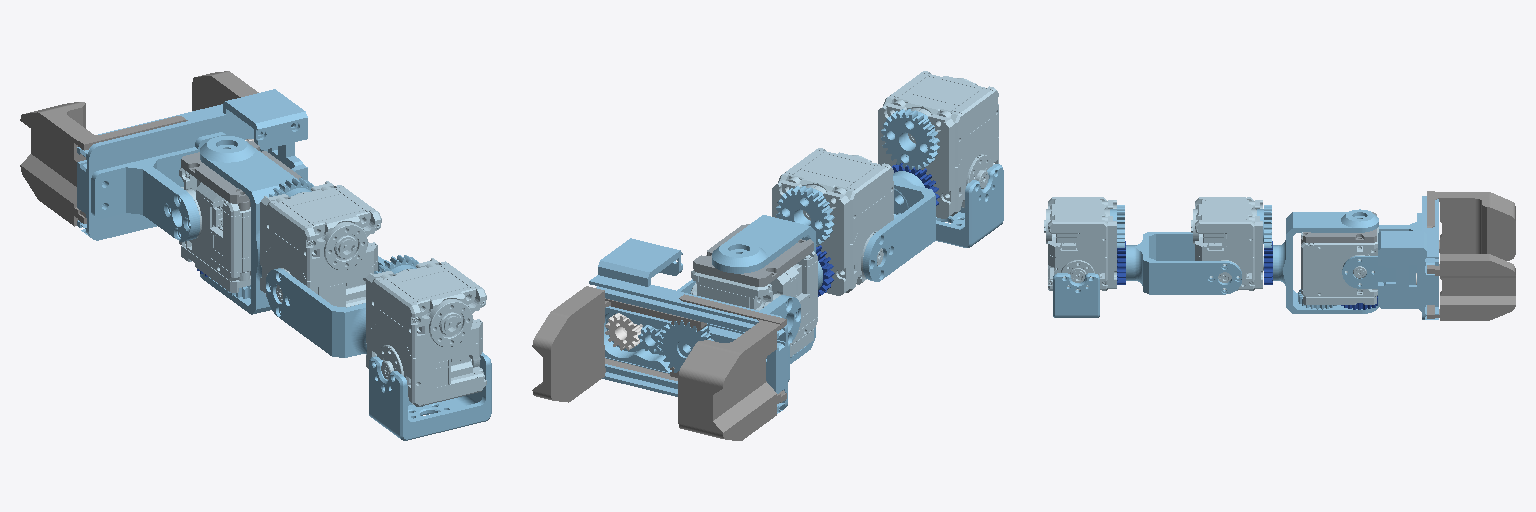
--- Facts derived from the render (not from the file) ---
3 views of the same robot in one strip: view 1: azimuth 30°, elevation 25°; view 2: azimuth 150°, elevation 25°; view 3: azimuth 270°, elevation 25° (orthographic).
Robot: right_arm_gripper — 19 links, 18 joints (10 revolute, 2 prismatic, 6 fixed); root link sho_pitch_link; default pose: every joint at zero.
Links seen in each view (by area): view 1: 2xl430_gears, 2xl430_gears_2, right_rail_guide, rail_2, gripper_connector, sho_pitch_link, 2xl430_gears_3, elb_yaw_link, sho_yaw_link, rail, wrist_bearing_plate; view 2: right_rail_guide, rail_2, 2xl430_gears, 2xl430_gears_2, rail, sho_yaw_link, 2xl430_gears_3, elb_yaw_link, sho_pitch_link, spur_1m_24t_drive, wrist_bearing_plate, spur_1m_24t_drive_2 (+2 smaller); view 3: 2xl430_gears, sho_yaw_link, 2xl430_gears_2, rail, rail_2, right_rail_guide, 2xl430_gears_3, elb_yaw_link, sho_pitch_link, gripper_connector, wrist_bearing_plate.
Link boxes in pixels (bbox=[...]): 2xl430_gears: bbox=[366, 258, 486, 406]; 2xl430_gears_2: bbox=[260, 181, 381, 307]; right_rail_guide: bbox=[77, 89, 307, 240]; rail_2: bbox=[20, 102, 187, 226]; gripper_connector: bbox=[91, 132, 227, 241]; sho_pitch_link: bbox=[369, 352, 491, 440]; 2xl430_gears_3: bbox=[179, 168, 250, 292]; elb_yaw_link: bbox=[200, 136, 297, 314]; sho_yaw_link: bbox=[266, 256, 384, 357]; rail: bbox=[192, 71, 258, 110]; wrist_bearing_plate: bbox=[181, 141, 301, 210]; right_rail_guide: bbox=[589, 238, 787, 413]; rail_2: bbox=[670, 294, 786, 440]; 2xl430_gears: bbox=[878, 71, 998, 218]; 2xl430_gears_2: bbox=[772, 148, 893, 295]; rail: bbox=[532, 286, 706, 402]; sho_yaw_link: bbox=[863, 171, 935, 281]; 2xl430_gears_3: bbox=[690, 251, 817, 356]; elb_yaw_link: bbox=[712, 215, 822, 363]; sho_pitch_link: bbox=[936, 164, 1003, 247]; spur_1m_24t_drive: bbox=[881, 109, 939, 169]; wrist_bearing_plate: bbox=[693, 224, 813, 286]; spur_1m_24t_drive_2: bbox=[776, 186, 834, 244]; 2xl430_gears: bbox=[1044, 197, 1116, 290]; sho_yaw_link: bbox=[1126, 232, 1241, 294]; 2xl430_gears_2: bbox=[1191, 197, 1263, 290]; rail: bbox=[1427, 254, 1515, 320]; rail_2: bbox=[1427, 191, 1515, 260]; right_rail_guide: bbox=[1378, 196, 1438, 319]; 2xl430_gears_3: bbox=[1301, 227, 1378, 304]; elb_yaw_link: bbox=[1273, 209, 1378, 313]; sho_pitch_link: bbox=[1053, 273, 1099, 317]; gripper_connector: bbox=[1342, 213, 1421, 288]; wrist_bearing_plate: bbox=[1301, 212, 1376, 243].
Bounding box of the posed robot: 0.0917 × 0.281 × 0.0652 m (x, y, z).
Meshes: 19 distinct files referenced, 18 mesh visuals loaded (18 binary STL); not drawn: 1 (reference not matched to a file when rendering).

URDF robot description (right_arm_gripper):
<?xml version="1.0" ?><robot name="right_arm_gripper">  
  <link name="sho_pitch_link">    
    <visual>      
      <origin xyz="0 0 0" rpy="0 -0 0"/>      
      <geometry>        
        <mesh filename="package:///meshes/right_sho_pitch_link_visual.stl"/>        
      </geometry>      
      <material name="sho_pitch_link_material">        
        <color rgba="0.61568627450980395466 0.81176470588235294379 0.92941176470588238168 1.0"/>        
      </material>      
    </visual>    
    <collision>      
      <origin xyz="0 0 0" rpy="0 -0 0"/>      
      <geometry>        
        <mesh filename="package:///meshes/right_sho_pitch_link_collision.stl"/>        
      </geometry>      
    </collision>    
    <inertial>      
      <origin xyz="5.8254247037992103401e-11 -5.1264642561121243568e-05 0.0082440788127094936227" rpy="0 0 0"/>      
      <mass value="0.0086000000000000000056"/>      
      <inertia ixx="1.2272887040545796108e-06" ixy="-2.1429944214503845664e-14" ixz="-8.5847198242763822559e-15" iyy="2.9107306060364624323e-06" iyz="7.4623841398183017835e-09" izz="3.0803135950773491928e-06"/>      
    </inertial>    
  </link>  

  <link name="2xl430_gears">    
    <visual>      
      <origin xyz="0 0 0" rpy="0 -0 0"/>      
      <geometry>        
        <mesh filename="package:///meshes/right_2xl430_gears_visual.stl"/>        
      </geometry>      
      <material name="2xl430_gears_material">        
        <color rgba="0.7560598568794409946 0.8580469596269301169 0.91320266199377464478 1.0"/>        
      </material>      
    </visual>    
    <collision>      
      <origin xyz="0 0 0" rpy="0 -0 0"/>      
      <geometry>        
        <mesh filename="package:///meshes/right_2xl430_gears_collision.stl"/>        
      </geometry>      
    </collision>    
    <inertial>      
      <origin xyz="-0.011579403981033875928 -0.0024225766141437866767 -0.018551095523802622889" rpy="0 0 0"/>      
      <mass value="0.11800003674524910113"/>      
      <inertia ixx="2.7482298083236928881e-05" ixy="9.2729623433052696907e-07" ixz="-2.2634512004386817192e-08" iyy="3.2770742486672553985e-05" iyz="-6.5708346020062489801e-07" izz="3.576795754405571586e-05"/>      
    </inertial>    
  </link>  

  <link name="spur_1m_24t_drive">    
    <visual>      
      <origin xyz="0 0 0" rpy="0 -0 0"/>      
      <geometry>        
        <mesh filename="package:///meshes/right_spur_1m_24t_drive_visual.stl"/>        
      </geometry>      
      <material name="spur_1m_24t_drive_material">        
        <color rgba="0.61568627450980406568 0.81176470588235294379 0.92941176470588238168 1.0"/>        
      </material>      
    </visual>    
    <collision>      
      <origin xyz="0 0 0" rpy="0 -0 0"/>      
      <geometry>        
        <mesh filename="package:///meshes/right_spur_1m_24t_drive_collision.stl"/>        
      </geometry>      
    </collision>    
    <inertial>      
      <origin xyz="-7.7516116741234976791e-15 -1.2124421062364720718e-16 0.0047949116178401416863" rpy="0 0 0"/>      
      <mass value="0.0032000000000000001533"/>      
      <inertia ixx="1.4019331346159892996e-07" ixy="1.6002409922818087303e-15" ixz="1.5512658169588909582e-36" iyy="1.4019331260388783538e-07" iyz="6.832589472426229927e-37" izz="2.3838919844264060647e-07"/>      
    </inertial>    
  </link>  

  <joint name="right_sho_yaw_drive" type="revolute">    
    <origin xyz="-0.02400000071613753172 -0.019000000152449930679 -0.01900000015244478202" rpy="1.5707963267947220309 -4.4297106944168913575e-14 6.810646137204639124e-14"/>    
    <parent link="2xl430_gears"/>    
    <child link="spur_1m_24t_drive"/>    
    <axis xyz="0 0 1"/>    
    <limit effort="1" velocity="20" lower="-2.6179938779914944114" upper="2.6179938779914944114"/>    
    <joint_properties friction="0.0"/>    
  </joint>  

  <link name="spur_1m_24t_driven">    
    <visual>      
      <origin xyz="0 0 0" rpy="0 -0 0"/>      
      <geometry>        
        <mesh filename="package:///meshes/right_spur_1m_24t_driven_visual.stl"/>        
      </geometry>      
      <material name="spur_1m_24t_driven_material">        
        <color rgba="0.23137254901960788156 0.38039215686274502337 0.7058823529411765163 1.0"/>        
      </material>      
    </visual>    
    <collision>      
      <origin xyz="0 0 0" rpy="0 -0 0"/>      
      <geometry>        
        <mesh filename="package:///meshes/right_spur_1m_24t_driven_collision.stl"/>        
      </geometry>      
    </collision>    
    <inertial>      
      <origin xyz="1.9637778540991893625e-18 -5.8049057615352288969e-15 -0.00097054817521927832808" rpy="0 0 0"/>      
      <mass value="0.0026999999999999997093"/>      
      <inertia ixx="1.2036234079571065709e-07" ixy="3.0459387528081630637e-37" ixz="-3.0332648475783403611e-37" iyy="1.203623407957104718e-07" iyz="-2.0908704881522101161e-36" izz="2.2847261745924535316e-07"/>      
    </inertial>    
  </link>  

  <link name="sho_yaw_link">    
    <visual>      
      <origin xyz="0 0 0" rpy="0 -0 0"/>      
      <geometry>        
        <mesh filename="package:///meshes/right_sho_yaw_link_visual.stl"/>        
      </geometry>      
      <material name="sho_yaw_link_material">        
        <color rgba="0.61568627450980395466 0.81176470588235294379 0.92941176470588238168 1.0"/>        
      </material>      
    </visual>    
    <collision>      
      <origin xyz="0 0 0" rpy="0 -0 0"/>      
      <geometry>        
        <mesh filename="package:///meshes/right_sho_yaw_link_collision.stl"/>        
      </geometry>      
    </collision>    
    <inertial>      
      <origin xyz="-1.2817564279970693173e-18 -4.2395441168324980763e-19 -0.024303257848520172513" rpy="0 0 0"/>      
      <mass value="0.014500000000000016348"/>      
      <inertia ixx="9.0846670053041382782e-06" ixy="3.6224092806404002001e-13" ixz="-7.3094158734906374592e-36" iyy="5.6910950712097533498e-06" iyz="-4.7266869952784907348e-35" izz="4.481960984554899287e-06"/>      
    </inertial>    
  </link>  

  <link name="2xl430_gears_2">    
    <visual>      
      <origin xyz="0 0 0" rpy="0 -0 0"/>      
      <geometry>        
        <mesh filename="package:///meshes/right_2xl430_gears_2_visual.stl"/>        
      </geometry>      
      <material name="2xl430_gears_2_material">        
        <color rgba="0.7560598568794409946 0.8580469596269301169 0.91320266199377464478 1.0"/>        
      </material>      
    </visual>    
    <collision>      
      <origin xyz="0 0 0" rpy="0 -0 0"/>      
      <geometry>        
        <mesh filename="package:///meshes/right_2xl430_gears_2_collision.stl"/>        
      </geometry>      
    </collision>    
    <inertial>      
      <origin xyz="-0.011579403981039848581 -0.0024225766141426031616 -0.018551095523806133969" rpy="0 0 0"/>      
      <mass value="0.11800003674524910113"/>      
      <inertia ixx="2.7482298083239717313e-05" ixy="9.2729623432914789355e-07" ixz="-2.2634512003324065467e-08" iyy="3.2770742486673665292e-05" iyz="-6.570834602014093564e-07" izz="3.5767957544057796173e-05"/>      
    </inertial>    
  </link>  

  <link name="spur_1m_24t_drive_2">    
    <visual>      
      <origin xyz="0 0 0" rpy="0 -0 0"/>      
      <geometry>        
        <mesh filename="package:///meshes/right_spur_1m_24t_drive_2_visual.stl"/>        
      </geometry>      
      <material name="spur_1m_24t_drive_2_material">        
        <color rgba="0.61568627450980406568 0.81176470588235294379 0.92941176470588238168 1.0"/>        
      </material>      
    </visual>    
    <collision>      
      <origin xyz="0 0 0" rpy="0 -0 0"/>      
      <geometry>        
        <mesh filename="package:///meshes/right_spur_1m_24t_drive_2_collision.stl"/>        
      </geometry>      
    </collision>    
    <inertial>      
      <origin xyz="-7.7516116741234961014e-15 -1.2124421064949660133e-16 0.0047949116178401382168" rpy="0 0 0"/>      
      <mass value="0.0032000000000000001533"/>      
      <inertia ixx="1.4019331346159887702e-07" ixy="1.6002409935589451508e-15" ixz="3.4217861399280605448e-38" iyy="1.4019331260388780891e-07" iyz="-5.6275823426893574842e-37" izz="2.3838919844264060647e-07"/>      
    </inertial>    
  </link>  

  <joint name="right_elbow_yaw_drive" type="revolute">    
    <origin xyz="-0.02400000071614593472 -0.019000000152452525826 -0.019000000152448241059" rpy="1.5707963267948983344 1.6898711261348466559e-13 -7.2725329301663980295e-14"/>    
    <parent link="2xl430_gears_2"/>    
    <child link="spur_1m_24t_drive_2"/>    
    <axis xyz="0 0 1"/>    
    <limit effort="1" velocity="20" lower="-2.6179938779914944114" upper="2.6179938779914944114"/>    
    <joint_properties friction="0.0"/>    
  </joint>  

  <link name="spur_1m_24t_driven_2">    
    <visual>      
      <origin xyz="0 0 0" rpy="0 -0 0"/>      
      <geometry>        
        <mesh filename="package:///meshes/right_spur_1m_24t_driven_2_visual.stl"/>        
      </geometry>      
      <material name="spur_1m_24t_driven_2_material">        
        <color rgba="0.23137254901960788156 0.38039215686274502337 0.7058823529411765163 1.0"/>        
      </material>      
    </visual>    
    <collision>      
      <origin xyz="0 0 0" rpy="0 -0 0"/>      
      <geometry>        
        <mesh filename="package:///meshes/right_spur_1m_24t_driven_2_collision.stl"/>        
      </geometry>      
    </collision>    
    <inertial>      
      <origin xyz="1.9637778540993164739e-18 -5.8049057615352265303e-15 -0.00097054817521928168911" rpy="0 0 0"/>      
      <mass value="0.0026999999999999997093"/>      
      <inertia ixx="1.2036234079571071003e-07" ixy="2.8999630800741879349e-37" ixz="1.3128544367748221718e-36" iyy="1.203623407957104718e-07" iyz="-2.5130632054411367083e-36" izz="2.2847261745924545904e-07"/>      
    </inertial>    
  </link>  

  <link name="elb_yaw_link">    
    <visual>      
      <origin xyz="0 0 0" rpy="0 -0 0"/>      
      <geometry>        
        <mesh filename="package:///meshes/right_elb_yaw_link_visual.stl"/>        
      </geometry>      
      <material name="elb_yaw_link_material">        
        <color rgba="0.61568627450980395466 0.81176470588235294379 0.92941176470588227065 1.0"/>        
      </material>      
    </visual>    
    <collision>      
      <origin xyz="0 0 0" rpy="0 -0 0"/>      
      <geometry>        
        <mesh filename="package:///meshes/right_elb_yaw_link_collision.stl"/>        
      </geometry>      
    </collision>    
    <inertial>      
      <origin xyz="5.3127688027391931278e-08 0.0019833638641961644222 -0.023416643551549931601" rpy="0 0 0"/>      
      <mass value="0.017500000000000001665"/>      
      <inertia ixx="1.4134344903109194693e-05" ixy="1.6945783921965038345e-12" ixz="-1.128639872187510241e-11" iyy="6.6435900776211323463e-06" iyz="1.0545227077253055462e-06" izz="8.9925290757998976773e-06"/>      
    </inertial>    
  </link>  

  <link name="spur_1m_24t_driven_3">    
    <visual>      
      <origin xyz="0 0 0" rpy="0 -0 0"/>      
      <geometry>        
        <mesh filename="package:///meshes/right_spur_1m_24t_driven_3_visual.stl"/>        
      </geometry>      
      <material name="spur_1m_24t_driven_3_material">        
        <color rgba="0.23137254901960788156 0.38039215686274502337 0.7058823529411765163 1.0"/>        
      </material>      
    </visual>    
    <collision>      
      <origin xyz="0 0 0" rpy="0 -0 0"/>      
      <geometry>        
        <mesh filename="package:///meshes/right_spur_1m_24t_driven_3_collision.stl"/>        
      </geometry>      
    </collision>    
    <inertial>      
      <origin xyz="-2.5791797761529692948e-17 -5.8049057615352265303e-15 -0.0025705481752192754774" rpy="0 0 0"/>      
      <mass value="0.0026999999999999997093"/>      
      <inertia ixx="1.2036234079571065709e-07" ixy="2.3695488040715002324e-36" ixz="-1.6418916509117533046e-37" iyy="1.203623407957104718e-07" iyz="2.6219923247193895907e-37" izz="2.2847261745924535316e-07"/>      
    </inertial>    
  </link>  

  <link name="2xl430_gears_3">    
    <visual>      
      <origin xyz="0 0 0" rpy="0 -0 0"/>      
      <geometry>        
        <mesh filename="package:///meshes/right_2xl430_gears_3_visual.stl"/>        
      </geometry>      
      <material name="2xl430_gears_3_material">        
        <color rgba="0.7560598568794409946 0.8580469596269301169 0.91320266199377464478 1.0"/>        
      </material>      
    </visual>    
    <collision>      
      <origin xyz="0 0 0" rpy="0 -0 0"/>      
      <geometry>        
        <mesh filename="package:///meshes/right_2xl430_gears_3_collision.stl"/>        
      </geometry>      
    </collision>    
    <inertial>      
      <origin xyz="0.00044890447619669408006 0.011579403622970779394 -0.024577423538312447721" rpy="0 0 0"/>      
      <mass value="0.11800003674524910113"/>      
      <inertia ixx="3.5767957544055424481e-05" ixy="2.2634512004688532975e-08" ixz="6.5708346020178840365e-07" iyy="2.748229808323665783e-05" iyz="9.2729623433030875221e-07" izz="3.2770742486673733055e-05"/>      
    </inertial>    
  </link>  

  <link name="spur_1m_24t_drive_3">    
    <visual>      
      <origin xyz="0 0 0" rpy="0 -0 0"/>      
      <geometry>        
        <mesh filename="package:///meshes/right_spur_1m_24t_drive_3_visual.stl"/>        
      </geometry>      
      <material name="spur_1m_24t_drive_3_material">        
        <color rgba="0.61568627450980406568 0.81176470588235294379 0.92941176470588238168 1.0"/>        
      </material>      
    </visual>    
    <collision>      
      <origin xyz="0 0 0" rpy="0 -0 0"/>      
      <geometry>        
        <mesh filename="package:///meshes/right_spur_1m_24t_drive_3_collision.stl"/>        
      </geometry>      
    </collision>    
    <inertial>      
      <origin xyz="-7.7516116741234961014e-15 -1.2124421064949640411e-16 0.0047949116178401460231" rpy="0 0 0"/>      
      <mass value="0.0032000000000000001533"/>      
      <inertia ixx="1.4019331346159887702e-07" ixy="1.6002409922818087303e-15" ixz="-3.3317537353747163282e-37" iyy="1.4019331260388783538e-07" iyz="3.0918437697492268121e-37" izz="2.3838919844264060647e-07"/>      
    </inertial>    
  </link>  

  <joint name="right_wrist_pitch_drive" type="revolute">    
    <origin xyz="-1.5244750094239886385e-10 0.0240000003580740362 -0.0080000000000028936853" rpy="-2.6466654378983997098e-14 5.3007428237114777825e-14 -1.5707963267948148456"/>    
    <parent link="2xl430_gears_3"/>    
    <child link="spur_1m_24t_drive_3"/>    
    <axis xyz="0 0 1"/>    
    <limit effort="1" velocity="20" lower="-1.3962634015954635824" upper="1.9198621771937625091"/>    
    <joint_properties friction="0.0"/>    
  </joint>  

  <link name="gripper_connector">    
    <visual>      
      <origin xyz="0 0 0" rpy="0 -0 0"/>      
      <geometry>        
        <mesh filename="package:///meshes/right_gripper_connector_visual.stl"/>        
      </geometry>      
      <material name="gripper_connector_material">        
        <color rgba="0.61568627450980395466 0.81176470588235294379 0.92941176470588238168 1.0"/>        
      </material>      
    </visual>    
    <collision>      
      <origin xyz="0 0 0" rpy="0 -0 0"/>      
      <geometry>        
        <mesh filename="package:///meshes/right_gripper_connector_collision.stl"/>        
      </geometry>      
    </collision>    
    <inertial>      
      <origin xyz="-0.00020299682521053769892 0.023971521766976103263 -0.029403013850151978742" rpy="0 0 0"/>      
      <mass value="0.0099999999999999915345"/>      
      <inertia ixx="5.3001475666257246734e-06" ixy="2.3401437868255261042e-08" ixz="4.811583299767815884e-08" iyy="3.824595446707140777e-06" iyz="1.9316561248438799289e-08" izz="2.2623415168893576625e-06"/>      
    </inertial>    
  </link>  

  <link name="right_rail_guide">    
    <visual>      
      <origin xyz="0 0 0" rpy="0 -0 0"/>      
      <geometry>        
        <mesh filename="package:///meshes/right_rail_guide_visual.stl"/>        
      </geometry>      
      <material name="right_rail_guide_material">        
        <color rgba="0.62025753727489985057 0.81399173133201496722 0.93011503590051236579 1.0"/>        
      </material>      
    </visual>    
    <collision>      
      <origin xyz="0 0 0" rpy="0 -0 0"/>      
      <geometry>        
        <mesh filename="package:///meshes/right_rail_guide_collision.stl"/>        
      </geometry>      
    </collision>    
    <inertial>      
      <origin xyz="0.0092741550667162046817 -0.0022368973911260671417 1.1465282798785714338e-05" rpy="0 0 0"/>      
      <mass value="0.030111386261699946837"/>      
      <inertia ixx="7.0587141071297691507e-06" ixy="-2.0076614642548894021e-06" ixz="3.7679719233345471749e-06" iyy="2.5402123601769114198e-05" iyz="8.8191782705952159154e-07" izz="2.785726023589890857e-05"/>      
    </inertial>    
  </link>  

  <link name="rail">    
    <visual>      
      <origin xyz="0 0 0" rpy="0 -0 0"/>      
      <geometry>        
        <mesh filename="package:///meshes/right_rail_visual.stl"/>        
      </geometry>      
      <material name="rail_material">        
        <color rgba="0.64705882352941179736 0.64705882352941179736 0.64705882352941179736 1.0"/>        
      </material>      
    </visual>    
    <collision>      
      <origin xyz="0 0 0" rpy="0 -0 0"/>      
      <geometry>        
        <mesh filename="package:///meshes/right_rail_collision.stl"/>        
      </geometry>      
    </collision>    
    <inertial>      
      <origin xyz="0.022744777800883853036 -0.01423343940335741048 -0.0079907133176532335606" rpy="0 0 0"/>      
      <mass value="0.011900000000000000855"/>      
      <inertia ixx="2.9161025366903536705e-06" ixy="4.4570835808162340167e-09" ixz="-7.5225164550604629609e-07" iyy="3.6201306422454505118e-06" iyz="2.6765050785959864527e-08" izz="4.4681807873990699658e-06"/>      
    </inertial>    
  </link>  

  <joint name="right_gripper_pinion" type="prismatic">    
    <origin xyz="-0.028872600000001191756 -0.014174999999999993161 -0.005350000000001076117" rpy="-3.141592653589793116 1.5707963267948954478 0"/>    
    <parent link="right_rail_guide"/>    
    <child link="rail"/>    
    <axis xyz="0 0 1"/>    
    <limit effort="1" velocity="20" lower="-0.036872599999999998432" upper="0"/>    
    <joint_properties friction="0.0"/>    
  </joint>  

  <link name="rail_2">    
    <visual>      
      <origin xyz="0 0 0" rpy="0 -0 0"/>      
      <geometry>        
        <mesh filename="package:///meshes/right_rail_2_visual.stl"/>        
      </geometry>      
      <material name="rail_2_material">        
        <color rgba="0.64705882352941179736 0.64705882352941179736 0.64705882352941179736 1.0"/>        
      </material>      
    </visual>    
    <collision>      
      <origin xyz="0 0 0" rpy="0 -0 0"/>      
      <geometry>        
        <mesh filename="package:///meshes/right_rail_2_collision.stl"/>        
      </geometry>      
    </collision>    
    <inertial>      
      <origin xyz="0.022744777800883853036 -0.014233439403357413949 -0.0079907133176532613161" rpy="0 0 0"/>      
      <mass value="0.011900000000000000855"/>      
      <inertia ixx="2.9161025366903536705e-06" ixy="4.4570835808162340167e-09" ixz="-7.5225164550604629609e-07" iyy="3.6201306422454505118e-06" iyz="2.6765050785959864527e-08" izz="4.4681807873990699658e-06"/>      
    </inertial>    
  </link>  

  <joint name="right_gripper_pinion_mirror" type="prismatic">    
    <origin xyz="0.062872599999998834974 0.01417499999999999663 -0.0053500000000010206058" rpy="9.1593399531549520226e-16 1.5707963267948945596 0"/>    
    <parent link="right_rail_guide"/>    
    <child link="rail_2"/>    
    <axis xyz="0 0 1"/>    
    <limit effort="1" velocity="20" lower="-0.036872599999999998432" upper="0"/>    
    <joint_properties friction="0.0"/>    
  </joint>  

  <link name="xc330">    
    <visual>      
      <origin xyz="0 0 0" rpy="0 -0 0"/>      
      <geometry>        
        <mesh filename="package:///meshes/right_xc330_visual.stl"/>        
      </geometry>      
      <material name="xc330_material">        
        <color rgba="0.66932535752643762539 0.72911795671409951325 0.67547870389434383487 1.0"/>        
      </material>      
    </visual>    
    <collision>      
      <origin xyz="0 0 0" rpy="0 -0 0"/>      
      <geometry>        
        <mesh filename="package:///meshes/right_xc330_collision.stl"/>        
      </geometry>      
    </collision>    
    <inertial>      
      <origin xyz="0.0080045171539637055558 -0.015558009851631656936 -0.011717805512818139924" rpy="0 0 0"/>      
      <mass value="0.026599999993091760775"/>      
      <inertia ixx="3.868341066651401772e-06" ixy="-7.7688424002228949476e-10" ixz="5.7969695833036041471e-10" iyy="2.1626767907494474886e-06" iyz="8.3590274792902258621e-09" izz="3.3158761130056255149e-06"/>      
    </inertial>    
  </link>  

  <link name="spur_gear_(14_teeth)">    
    <visual>      
      <origin xyz="0 0 0" rpy="0 -0 0"/>      
      <geometry>        
        <mesh filename="package:///meshes/right_spur_gear_(14_teeth)_visual.stl"/>        
      </geometry>      
      <material name="spur_gear_(14_teeth)_material">        
        <color rgba="0.91764705882352926025 0.91764705882352926025 0.91764705882352926025 1.0"/>        
      </material>      
    </visual>    
    <collision>      
      <origin xyz="0 0 0" rpy="0 -0 0"/>      
      <geometry>        
        <mesh filename="package:///meshes/right_spur_gear_(14_teeth)_collision.stl"/>        
      </geometry>      
    </collision>    
    <inertial>      
      <origin xyz="5.0520117152175192388e-09 -3.0586955537814648792e-09 -0.0069037287088334628807" rpy="0 0 0"/>      
      <mass value="0.0012999999999999999403"/>      
      <inertia ixx="2.644554736595136864e-08" ixy="2.5401821979637413651e-10" ixz="1.9678356781359987057e-14" iyy="2.6850679146645054187e-08" iyz="-1.1914086607927024327e-14" izz="3.4027434623053041057e-08"/>      
    </inertial>    
  </link>  

  <joint name="right_gripper_rack" type="revolute">    
    <origin xyz="0.0079999999999993270938 -0.022499999999995481947 -0.019999999999999684697" rpy="5.6483726968237356019e-16 2.1632341620255480784e-16 1.8833104111286173228e-17"/>    
    <parent link="xc330"/>    
    <child link="spur_gear_(14_teeth)"/>    
    <axis xyz="0 0 1"/>    
    <limit effort="1" velocity="20" lower="0" upper="5.2359877559829888227"/>    
    <joint_properties friction="0.0"/>    
  </joint>  

  <joint name="right_gripper_motor" type="fixed">    
    <origin xyz="-0.005949999999999996958 -0.022599999999999995093 0.023299999999999931877" rpy="-3.3306690738751713332e-16 -9.4115114089812621852e-30 -3.141592653589793116"/>    
    <parent link="right_rail_guide"/>    
    <child link="xc330"/>    
    <axis xyz="0 0 1"/>    
    <limit effort="1" velocity="20"/>    
    <joint_properties friction="0.0"/>    
  </joint>  

  <joint name="right_gripper_fixed" type="fixed">    
    <origin xyz="3.4694469519536141888e-18 0.036999999999999977351 -0.0020000000000000017764" rpy="1.570796326794896336 1.570796326794896558 0"/>    
    <parent link="gripper_connector"/>    
    <child link="right_rail_guide"/>    
    <axis xyz="0 0 1"/>    
    <limit effort="1" velocity="20"/>    
    <joint_properties friction="0.0"/>    
  </joint>  

  <joint name="right_wrist_roll" type="revolute">    
    <origin xyz="0.019000000000002677941 -3.5806407838734344296e-10 -0.027000000152454406432" rpy="-3.1415926535897558125 -1.570796326794831721 0"/>    
    <parent link="2xl430_gears_3"/>    
    <child link="gripper_connector"/>    
    <axis xyz="0 0 1"/>    
    <limit effort="1" velocity="20" lower="-1.3962634015954635824" upper="1.9198621771937625091"/>    
    <joint_properties friction="0.0"/>    
  </joint>  

  <link name="wrist_bearing_plate">    
    <visual>      
      <origin xyz="0 0 0" rpy="0 -0 0"/>      
      <geometry>        
        <mesh filename="package:///meshes/right_wrist_bearing_plate_visual.stl"/>        
      </geometry>      
      <material name="wrist_bearing_plate_material">        
        <color rgba="0.64496316278892629192 0.69011804996940528945 0.71706771073555886087 1.0"/>        
      </material>      
    </visual>    
    <collision>      
      <origin xyz="0 0 0" rpy="0 -0 0"/>      
      <geometry>        
        <mesh filename="package:///meshes/right_wrist_bearing_plate_collision.stl"/>        
      </geometry>      
    </collision>    
    <inertial>      
      <origin xyz="-0.0075835583121500035539 -0.015499999999999982542 -0.0018386323705903435521" rpy="0 0 0"/>      
      <mass value="0.0049000367468305548388"/>      
      <inertia ixx="4.9707430109150150308e-07" ixy="7.8908790833106419086e-23" ixz="1.8100904820814068335e-08" iyy="7.1268523603538584823e-07" iyz="4.3653874061918244677e-24" izz="1.1919657811600107117e-06"/>      
    </inertial>    
  </link>  

  <joint name="right_wrist_pitch_fixed" type="fixed">    
    <origin xyz="0.015500000000002131864 9.6866958898544908152e-15 -0.045000000000006430689" rpy="-2.6645352590932944871e-15 1.1984857550828037264e-13 -1.5707963267947835373"/>    
    <parent link="2xl430_gears_3"/>    
    <child link="wrist_bearing_plate"/>    
    <axis xyz="0 0 1"/>    
    <limit effort="1" velocity="20"/>    
    <joint_properties friction="0.0"/>    
  </joint>  

  <joint name="right_wrist_pitch_driven" type="revolute">    
    <origin xyz="-2.7755575615628913511e-17 6.3108872417680944433e-30 -0.0015999999999999992093" rpy="5.5511151231243844462e-16 1.2547220914404902092e-15 1.570796326794896558"/>    
    <parent link="spur_1m_24t_driven_3"/>    
    <child link="2xl430_gears_3"/>    
    <axis xyz="0 0 1"/>    
    <limit effort="1" velocity="20" lower="-1.9198621771937625091" upper="1.3962634015954635824"/>    
    <joint_properties friction="0.0"/>    
  </joint>  

  <joint name="right_wrist_roll_fixed" type="fixed">    
    <origin xyz="1.5777218104420236108e-30 -0.025299999999999999573 -0.052000000000000004552" rpy="1.5707963267948974462 1.570796326794896558 0"/>    
    <parent link="elb_yaw_link"/>    
    <child link="spur_1m_24t_driven_3"/>    
    <axis xyz="0 0 1"/>    
    <limit effort="1" velocity="20"/>    
    <joint_properties friction="0.0"/>    
  </joint>  

  <joint name="right_elbow_yaw_fixed" type="fixed">    
    <origin xyz="0 7.8886090522101180541e-30 0.0015999999999999764411" rpy="3.141592653589793116 -4.1526642731421539574e-29 -1.570796326794896558"/>    
    <parent link="spur_1m_24t_driven_2"/>    
    <child link="elb_yaw_link"/>    
    <axis xyz="0 0 1"/>    
    <limit effort="1" velocity="20"/>    
    <joint_properties friction="0.0"/>    
  </joint>  

  <joint name="right_elbow_yaw_driven" type="revolute">    
    <origin xyz="-3.5806997991660871605e-10 -0.027000000152456016256 -0.01900000000000036729" rpy="1.5707963267948485964 8.4311697099245782578e-14 3.098094357577576486e-14"/>    
    <parent link="2xl430_gears_2"/>    
    <child link="spur_1m_24t_driven_2"/>    
    <axis xyz="0 0 1"/>    
    <limit effort="1" velocity="20" lower="-2.6179938779914944114" upper="2.6179938779914944114"/>    
    <joint_properties friction="0.0"/>    
  </joint>  

  <joint name="right_elbow_roll" type="revolute">    
    <origin xyz="-3.4694469519536141888e-18 -0.018999999999999999528 -0.059000000000000010769" rpy="1.570796326794896558 5.4458140093899203203e-15 -1.8535314627675585241e-14"/>    
    <parent link="sho_yaw_link"/>    
    <child link="2xl430_gears_2"/>    
    <axis xyz="0 0 1"/>    
    <limit effort="1" velocity="20" lower="-1.9198621771937625091" upper="2.4434609527920612138"/>    
    <joint_properties friction="0.0"/>    
  </joint>  

  <joint name="right_sho_yaw_fixed" type="fixed">    
    <origin xyz="0 1.1832913578315177081e-30 0.0015999999999999937883" rpy="3.141592653589793116 -1.9721522629860631248e-30 4.8102873877572434203e-28"/>    
    <parent link="spur_1m_24t_driven"/>    
    <child link="sho_yaw_link"/>    
    <axis xyz="0 0 1"/>    
    <limit effort="1" velocity="20"/>    
    <joint_properties friction="0.0"/>    
  </joint>  

  <joint name="right_sho_yaw_driven" type="revolute">    
    <origin xyz="-3.5806749579259111727e-10 -0.027000000152448931645 -0.018999999999998073985" rpy="1.5707963267947655517 -4.3564811365923459647e-14 5.9791231064775441371e-14"/>    
    <parent link="2xl430_gears"/>    
    <child link="spur_1m_24t_driven"/>    
    <axis xyz="0 0 1"/>    
    <limit effort="1" velocity="20" lower="-2.6179938779914944114" upper="2.6179938779914944114"/>    
    <joint_properties friction="0.0"/>    
  </joint>  

  <joint name="right_sho_roll" type="revolute">    
    <origin xyz="-0.019000000000000002998 0.0010000000000000076102 0.027000000000000003164" rpy="3.141592653589793116 1.5707963267948827912 0"/>    
    <parent link="sho_pitch_link"/>    
    <child link="2xl430_gears"/>    
    <axis xyz="0 0 1"/>    
    <limit effort="1" velocity="20" lower="-1.570796326794896558" upper="0.34906585039886589561"/>    
    <joint_properties friction="0.0"/>    
  </joint>  


</robot>
